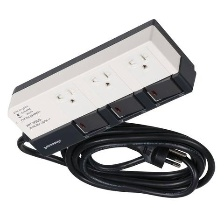three_eye_plug: (5, 16, 199, 160)
